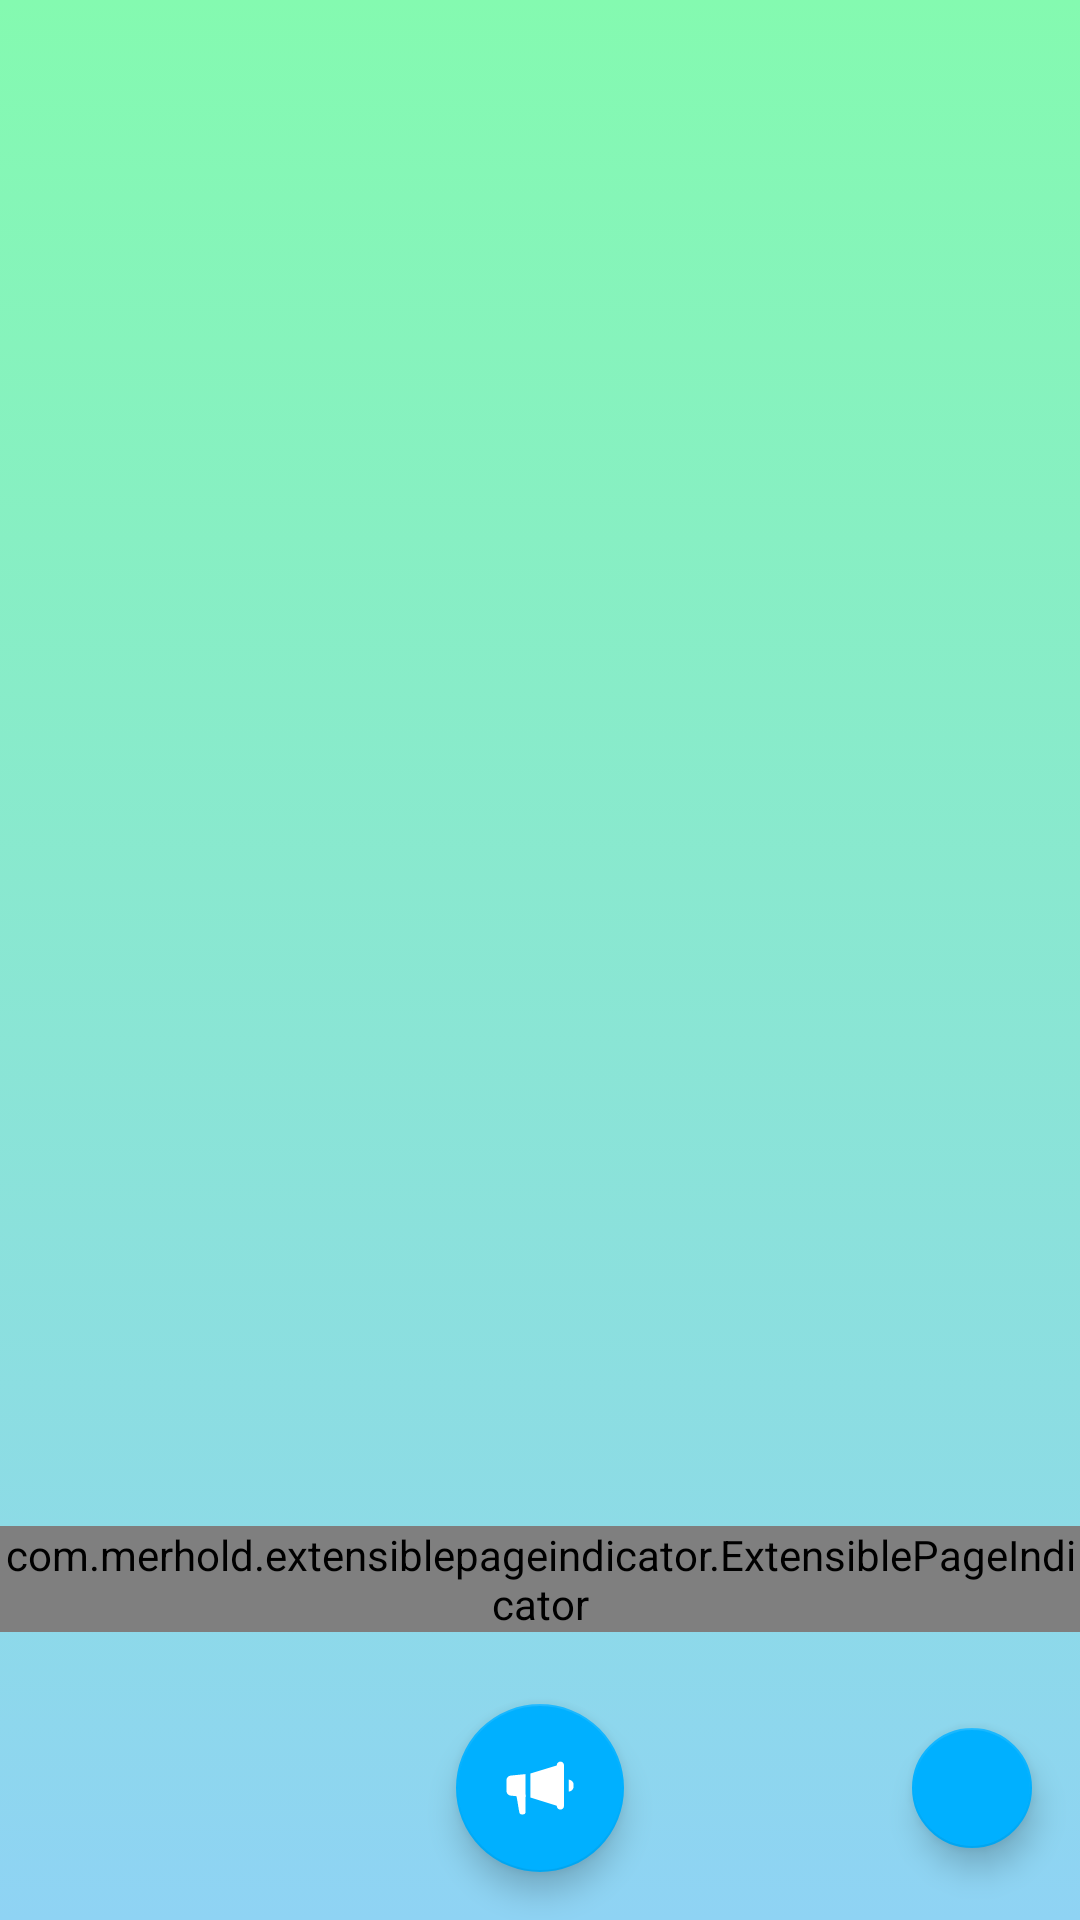

Screen size 1080w x 1920h. Icon name, then its box in pixels as {"x1": x1, "y1": y1, "x2": x2, "y2": y2}:
advertising: {"x1": 456, "y1": 1704, "x2": 624, "y2": 1872}
